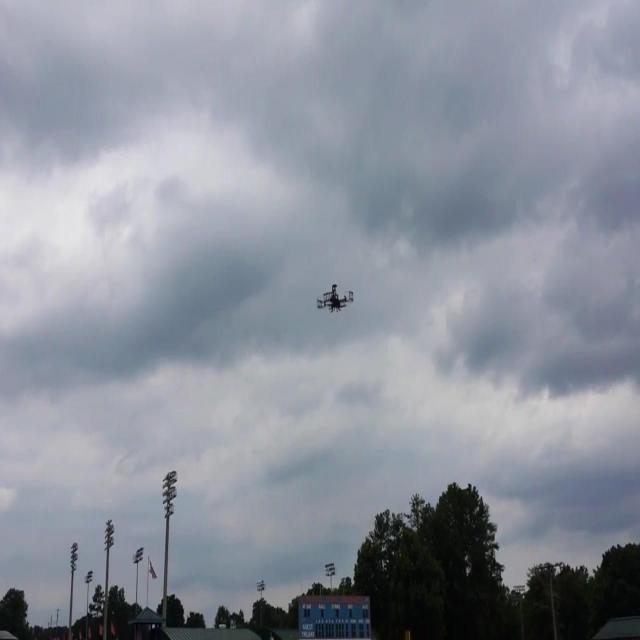UAV: (317, 284, 354, 313)
